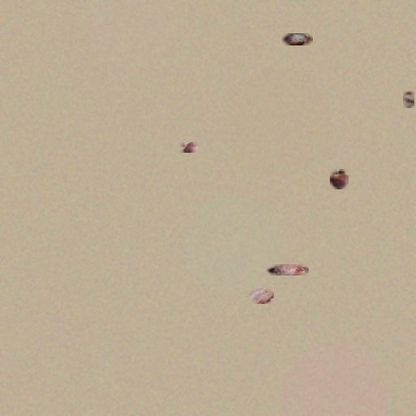damaged: (249, 288, 274, 304)
rotten: (266, 264, 309, 275), (282, 33, 313, 46), (403, 91, 414, 108)
sprouted: (330, 169, 349, 189), (180, 142, 198, 153)
